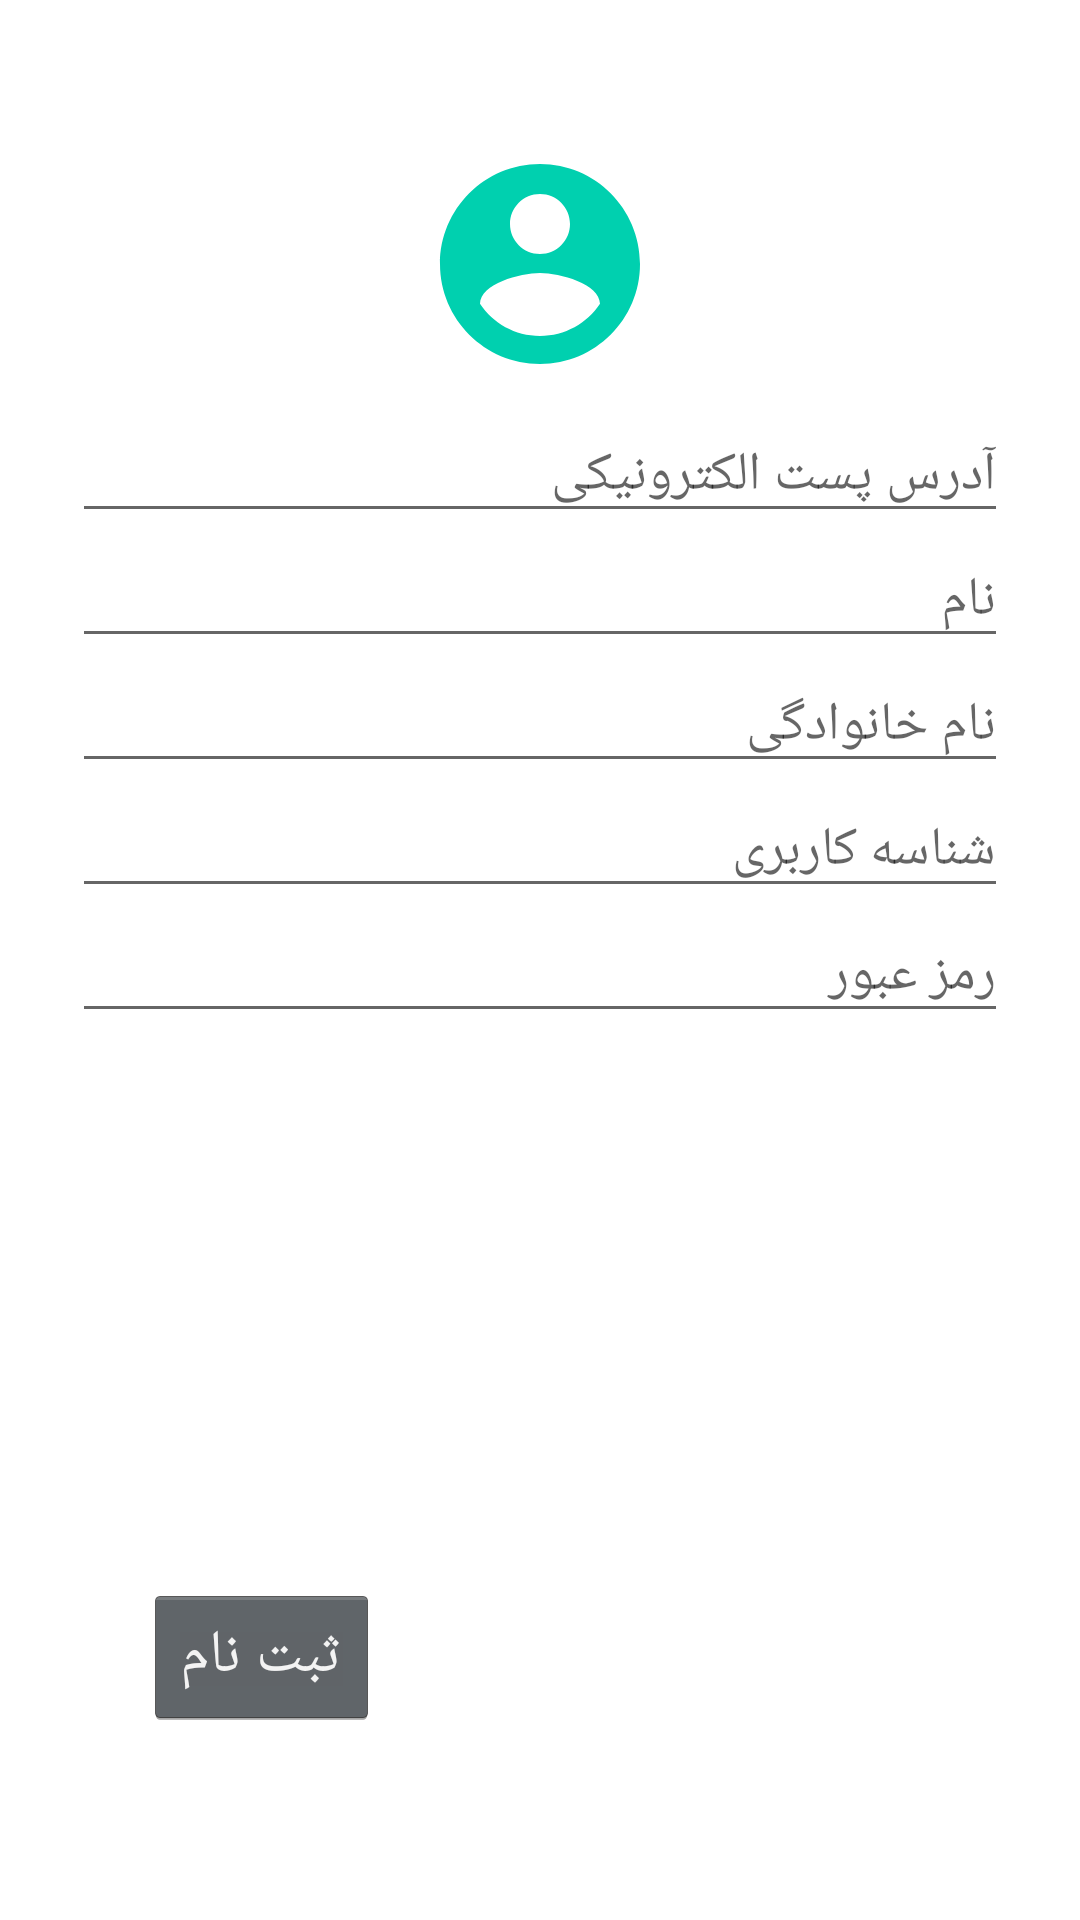

Locate icon controls on the screen. Image size 1080 × 1920, boxes as rect(x1, y1, x2, y2).
account circle: rect(439, 164, 640, 364)
